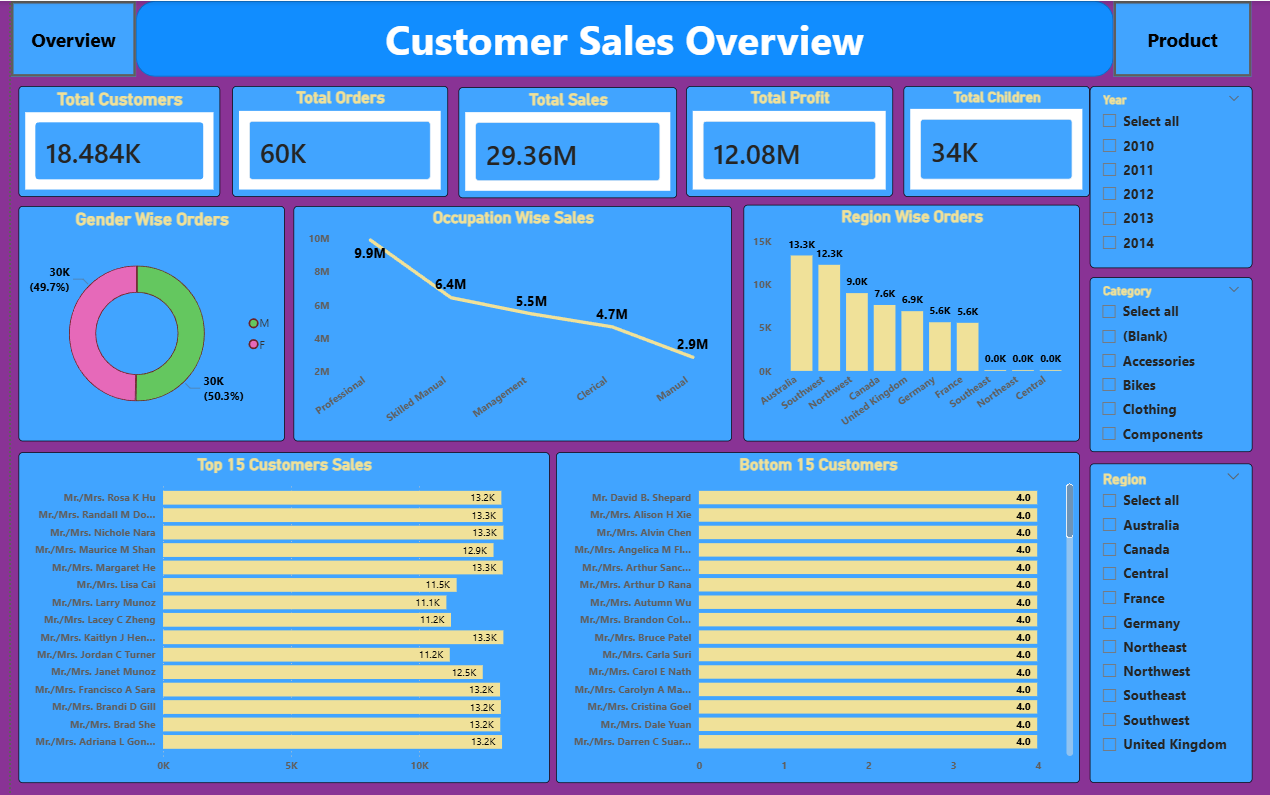

What the dashboard file says about the page in this screenshot:
{"tool":"powerbi","page":{"name":"Customer","canvas":[1512,950],"ordinal":1},"visuals":[{"type":"donutChart","title":"Gender Wise Orders","fields":{"Category":["Dimcustomer.Gender"],"Y":["Sum(Total Sales.OrderQuantity)"]},"box":[8.3,243.3,316.7,280],"z":0},{"type":"lineChart","title":"Occupation Wise Sales","fields":{"Category":["Dimcustomer.EnglishOccupation"],"Y":["Sum(Total Sales.Total Sales)"]},"box":[336.7,243.3,521.7,280],"z":1000},{"type":"clusteredBarChart","title":"Top 15 Customers Sales","fields":{"Category":["Dimcustomer.Customer Name"],"Y":["Sum(Total Sales.Total Sales)"]},"box":[8.3,536.7,631.7,393.3],"z":2000},{"type":"barChart","title":"Bottom 15 Customers","fields":{"Category":["Dimcustomer.Customer Name"],"Y":["Sum(Total Sales.Total Sales)"]},"box":[648.3,536.7,623.3,393.3],"z":3000},{"type":"columnChart","title":"Region Wise Orders","fields":{"Category":["DimSalesTerritory.SalesTerritoryRegion"],"Y":["Sum(Total Sales.OrderQuantity)"]},"box":[871.7,241.7,400,281.7],"z":4000},{"type":"cardVisual","title":"Total Customers","fields":{"Data":["Count(Total Sales.CustomerKey)"]},"box":[8.3,101.7,240,131.7],"z":5000},{"type":"cardVisual","title":"Total Orders","fields":{"Data":["Sum(Total Sales.OrderQuantity)"]},"box":[263.3,101.7,256.7,131.7],"z":6000},{"type":"cardVisual","title":"Total Sales","fields":{"Data":["Sum(Total Sales.SalesAmount)"]},"box":[531.7,103.3,260,131.7],"z":7000},{"type":"cardVisual","title":"Total Profit","fields":{"Data":["Total Sales.Profit"]},"box":[803.3,101.7,246.7,131.7],"z":8000},{"type":"slicer","fields":{"Values":["DimSalesTerritory.SalesTerritoryRegion"]},"box":[1283.3,550,193.3,380],"z":9000},{"type":"slicer","fields":{"Values":["DimProdCategory.EnglishProductCategoryName"]},"box":[1283.3,328.3,193.3,208.3],"z":10000},{"type":"slicer","fields":{"Values":["Total Sales.OrderDate.Variation.Date Hierarchy.Year"]},"box":[1283.3,101.7,193.3,216.7],"z":11000},{"type":"cardVisual","title":"Total Children","fields":{"Data":["Sum(Dimcustomer.TotalChildren)"]},"box":[1061.7,101.7,221.7,131.7],"z":12000},{"type":"shape","box":[148.6,0,1162.9,90],"z":13000},{"type":"actionButton","box":[0,0,148.6,90],"z":14000},{"type":"actionButton","box":[1311.4,0,164.3,90],"z":15000}]}

Visuals, with their boxes in screenshot pixels (x1, y1, x2, y2), scaled from the page's 1512x950 canvas onto the 1270x795 screenshot:
"Gender Wise Orders" donutChart: <region>7, 204, 273, 438</region>
"Occupation Wise Sales" lineChart: <region>283, 204, 721, 438</region>
"Top 15 Customers Sales" clusteredBarChart: <region>7, 449, 538, 778</region>
"Bottom 15 Customers" barChart: <region>545, 449, 1068, 778</region>
"Region Wise Orders" columnChart: <region>732, 202, 1068, 438</region>
"Total Customers" cardVisual: <region>7, 85, 209, 195</region>
"Total Orders" cardVisual: <region>221, 85, 437, 195</region>
"Total Sales" cardVisual: <region>447, 86, 665, 197</region>
"Total Profit" cardVisual: <region>675, 85, 882, 195</region>
slicer - DimSalesTerritory.SalesTerritoryRegion: <region>1078, 460, 1240, 778</region>
slicer - DimProdCategory.EnglishProductCategoryName: <region>1078, 275, 1240, 449</region>
slicer - Total Sales.OrderDate.Variation.Date Hierarchy.Year: <region>1078, 85, 1240, 266</region>
"Total Children" cardVisual: <region>892, 85, 1078, 195</region>
shape: <region>125, 0, 1102, 75</region>
actionButton: <region>0, 0, 125, 75</region>
actionButton: <region>1102, 0, 1240, 75</region>
